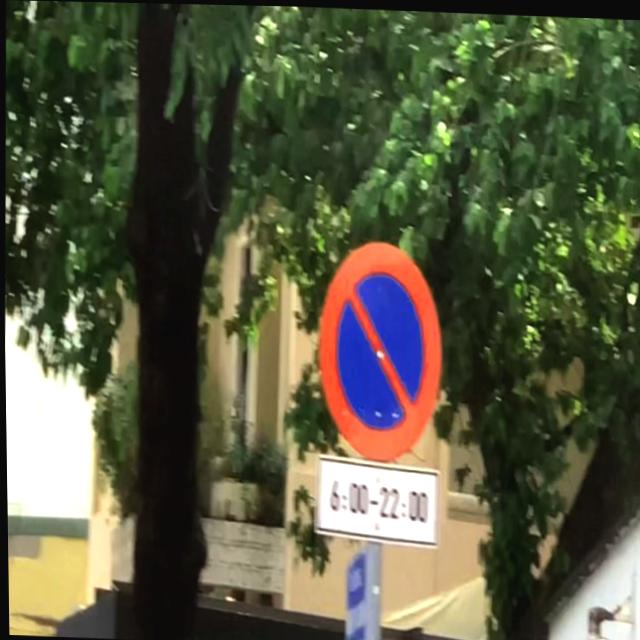Cam do xe: (313, 234, 446, 455)
